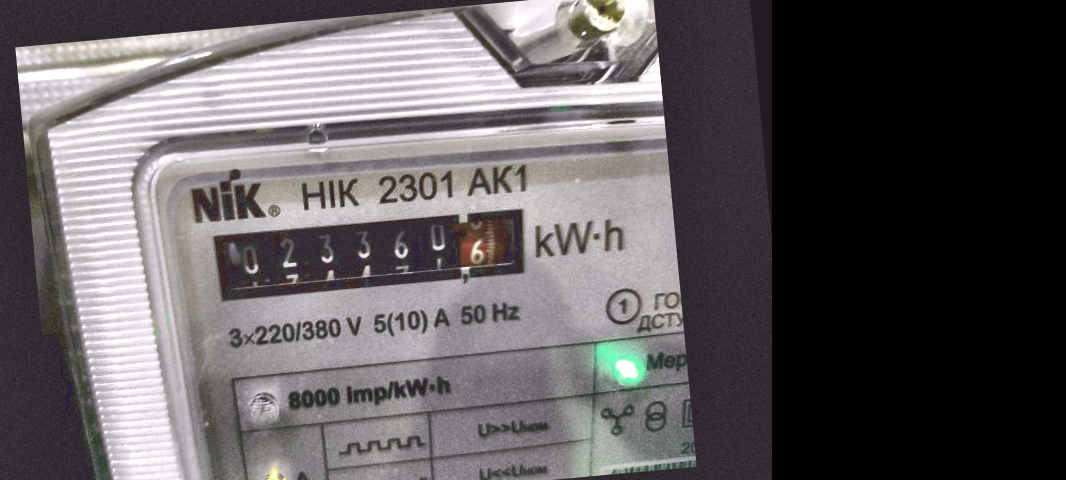0: (237, 240, 261, 275), (427, 219, 447, 252)
2: (275, 234, 301, 270)
3: (313, 231, 336, 264), (351, 226, 373, 259)
6: (387, 226, 410, 259), (463, 234, 487, 264)
screen: (193, 188, 542, 317)
